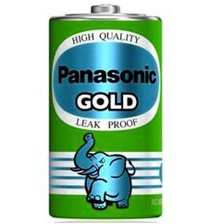battery: (46, 2, 166, 220)
